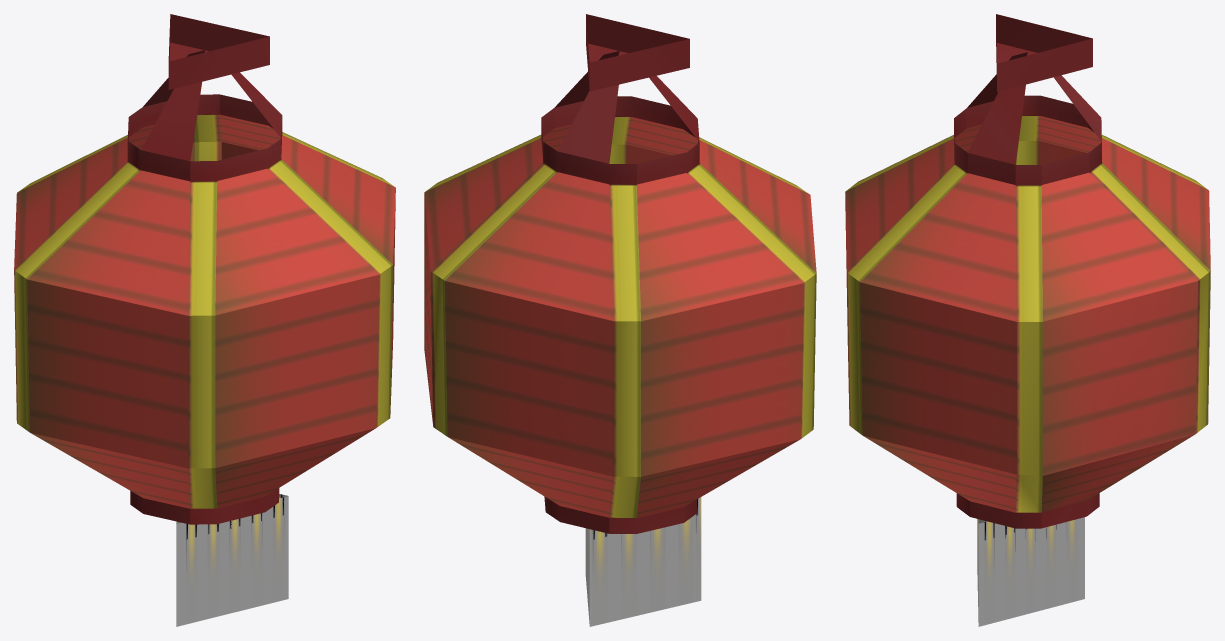
Rendered from Lamp02_Art.fbx.
The picture shows the model from 3 angles, left to right: view 1: azimuth 30°, elevation 25°; view 2: azimuth 150°, elevation 25°; view 3: azimuth 270°, elevation 25°; orthographic projection.
Visible parts, largest first — view 1: Lamp02_Art; view 2: Lamp02_Art; view 3: Lamp02_Art.
Part boxes in pixels (x1,y1,x2,y2): Lamp02_Art: (14,14,395,626); Lamp02_Art: (424,14,816,626); Lamp02_Art: (845,14,1210,626).
Size of the model in its own units: 1.28 by 1.85 by 1.1.
